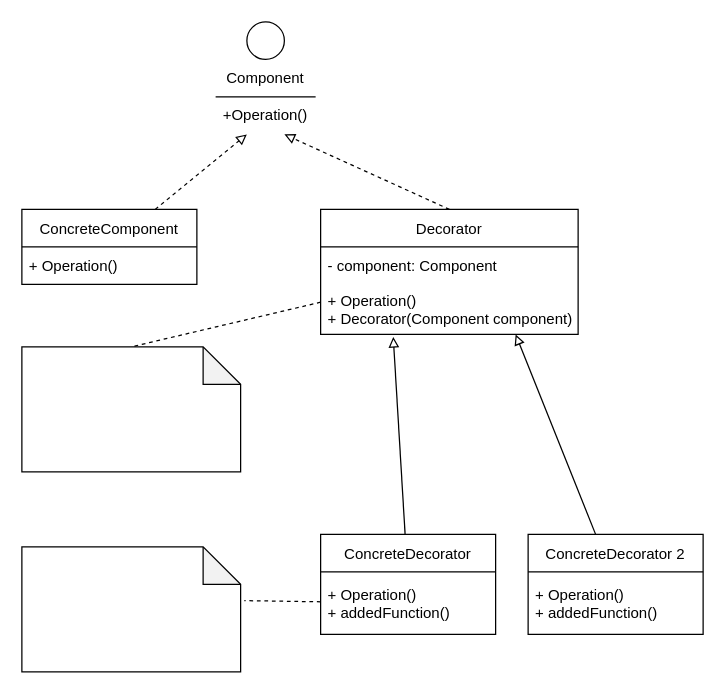
Image size: 725x694. Some labels were removed from this diagram. The centre of each missing label's shape, as x and y in pixels:
"public void operation() { component.operation(); }" goes at (131,409).
"public void operation() { super.operation(); addedFunction(); }" goes at (131,609).
